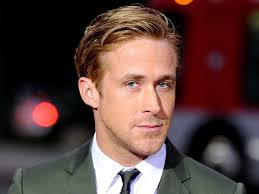s.white: (104, 90, 137, 123)
